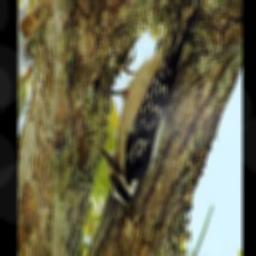Woodpecker: (99, 0, 199, 216)
